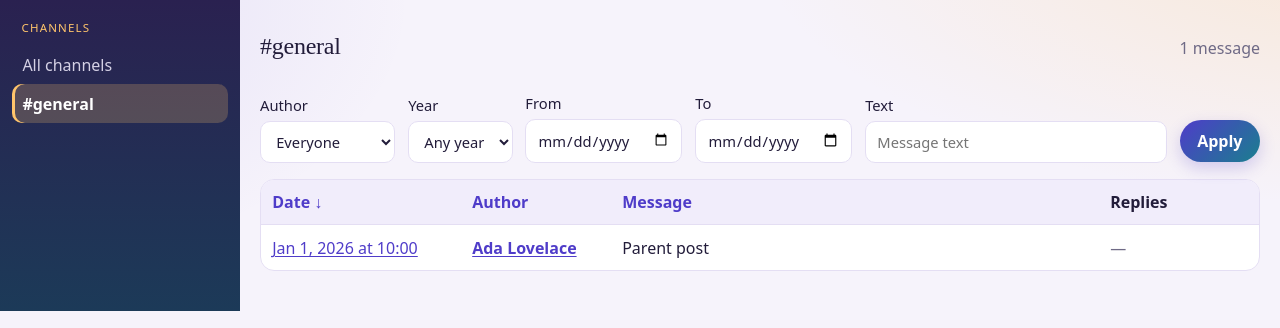
Test case: message browser › filters the list by the author when their name is clicked
The width and height of the screenshot is (1280, 328).
What coordinates should you click on to do the following:
click the button "Ada Lovelace"
I would click on:
 (524, 248)
Its box is x1=472 y1=236 x2=577 y2=260.
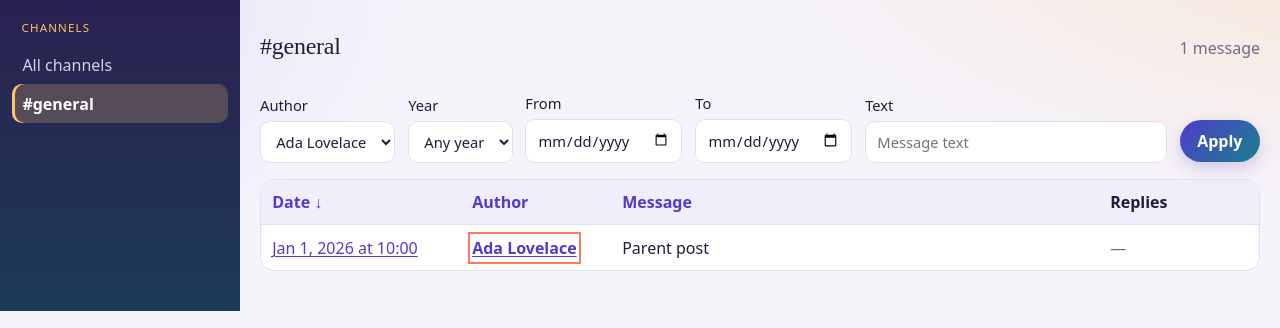
Now the dropdown named "Filter by author" shows "Ada Lovelace", box x1=260 y1=121 x2=395 y2=163
